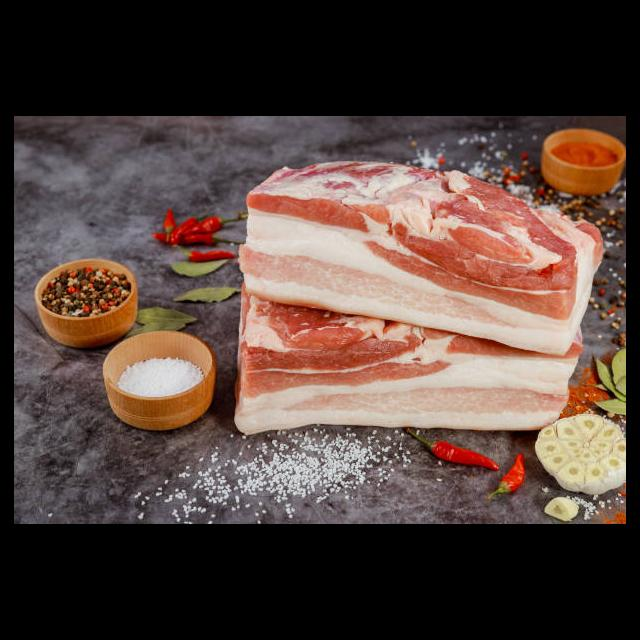pork: (240, 158, 598, 314), (233, 300, 571, 424)
